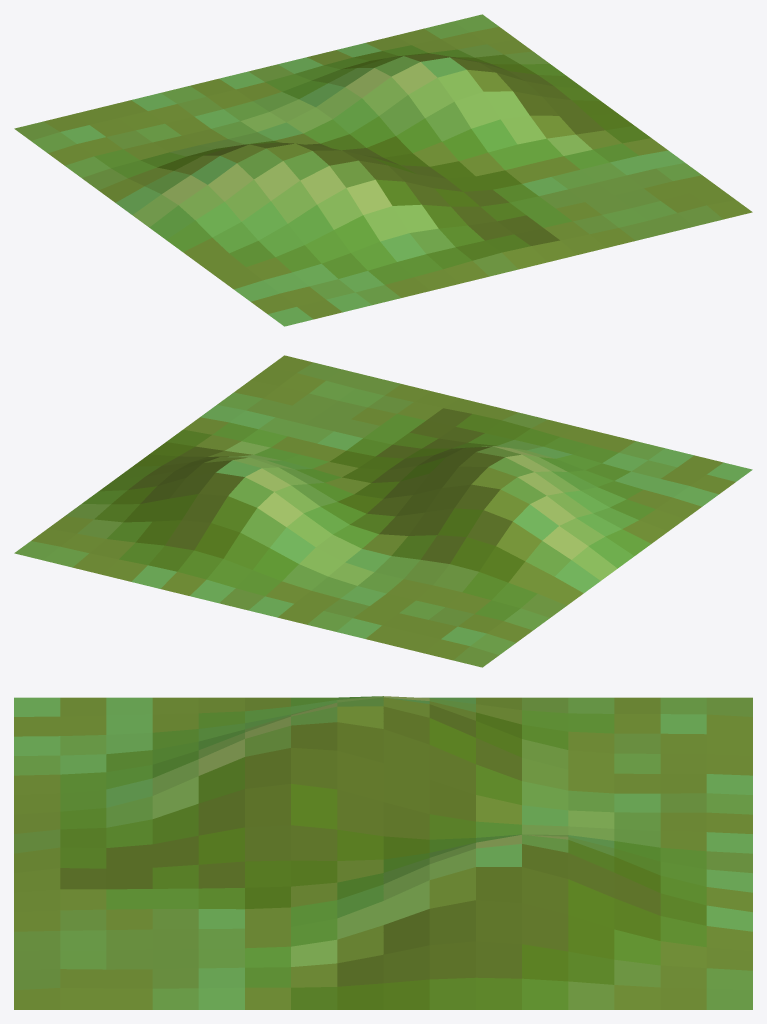
File: hills0.obj
The picture shows the model from 3 angles, top to bottom: view 1: azimuth 30°, elevation 25°; view 2: azimuth 150°, elevation 25°; view 3: azimuth 270°, elevation 25°; orthographic projection. The views are drawn at different scales.
Visible parts, largest first — view 1: Grid.014; view 2: Grid.014; view 3: Grid.014.
Part boxes in pixels (x1=…): Grid.014: x1=14, y1=14, x2=752, y2=326; Grid.014: x1=14, y1=355, x2=752, y2=667; Grid.014: x1=14, y1=696, x2=752, y2=1009.
Bounding box in the file's own units: 1 × 0.109 × 1.
1 material, 1 textured.
